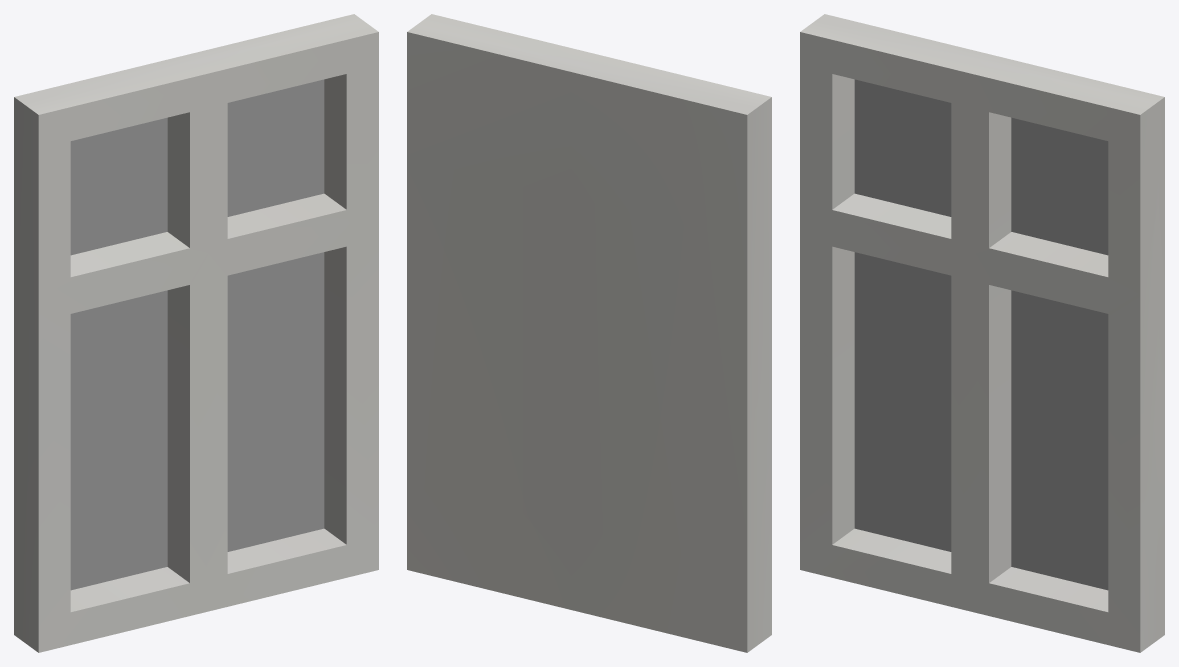
Rendered from obj_window_g2.fbx.
3 renders of one model, left to right at view 1: azimuth 30°, elevation 25°; view 2: azimuth 150°, elevation 25°; view 3: azimuth 330°, elevation 25°, orthographic.
Visible parts, largest first — view 1: obj_window_g2; view 2: obj_window_g2; view 3: obj_window_g2.
Part boxes in pixels (bbox=[...]): obj_window_g2: bbox=[14, 14, 378, 652]; obj_window_g2: bbox=[407, 14, 771, 652]; obj_window_g2: bbox=[800, 14, 1164, 652].
Bounding box in the file's own units: 1 × 1.51 × 0.1249.
Materials: 2 (1 with a texture image).
